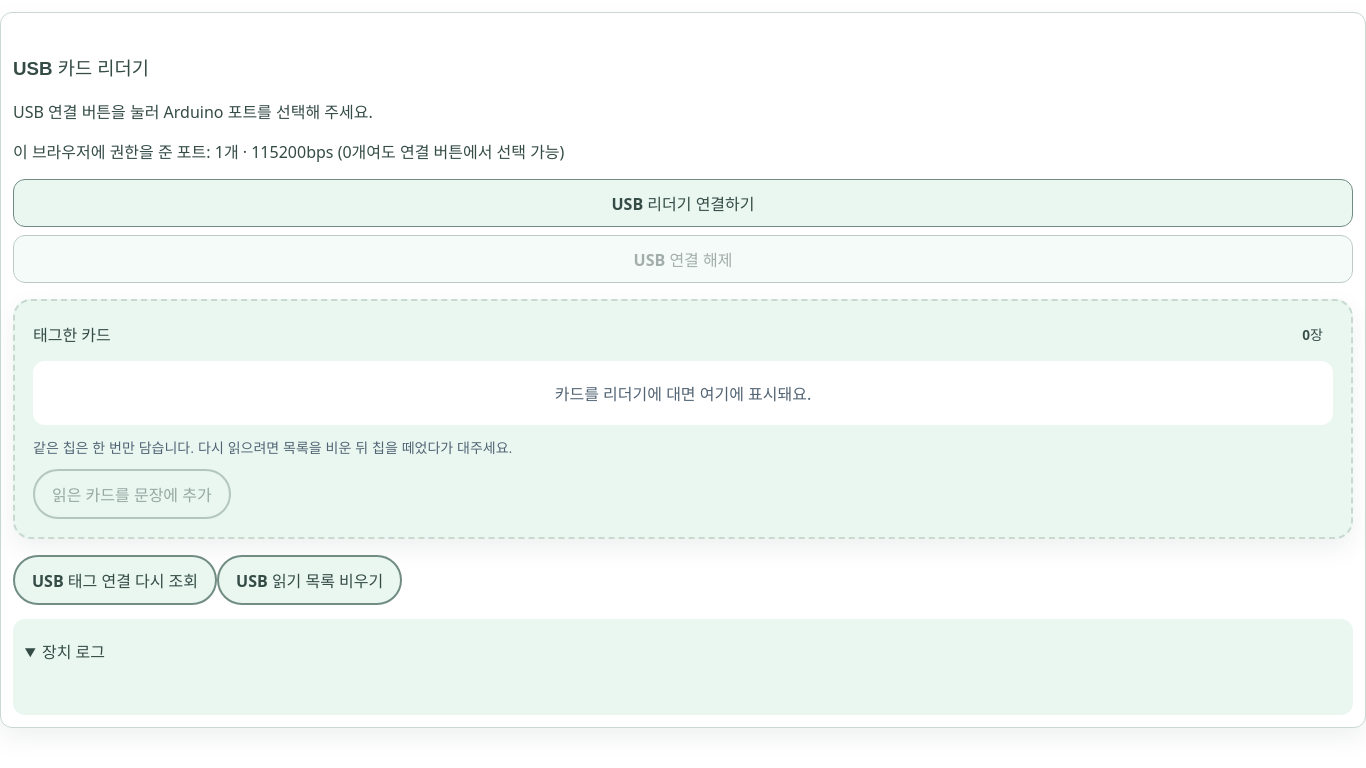
it: keeps unmapped cards out of the sentence and disposes the reader on target switch
This screenshot has width=1366, height=768.
Click the button "USB 리더기 연결하기": point(683, 203) [13,179,1353,227]
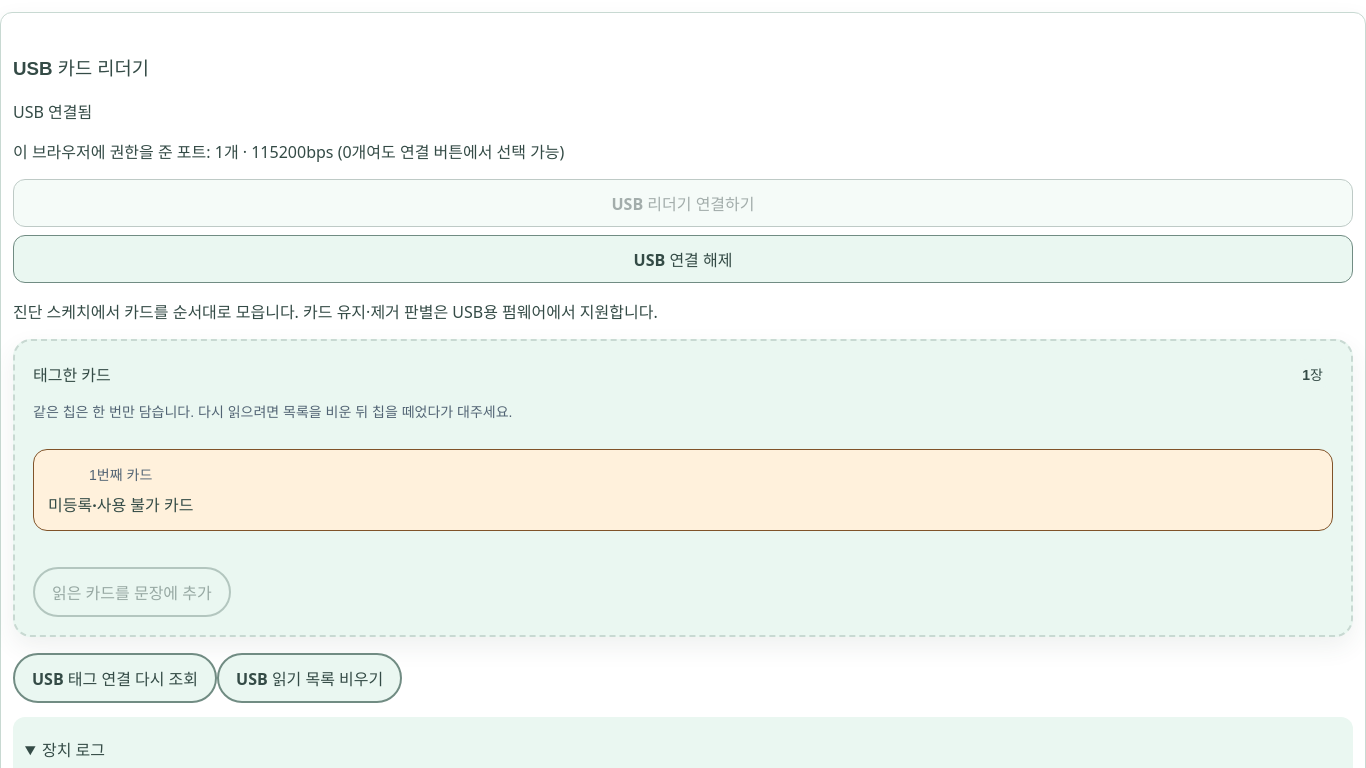
Expected: the button "읽은 카드를 문장에 추가" is disabled, [33,567,231,617]
Expected: the text "미등록·사용 불가 카드" is shown, [48,492,193,516]
